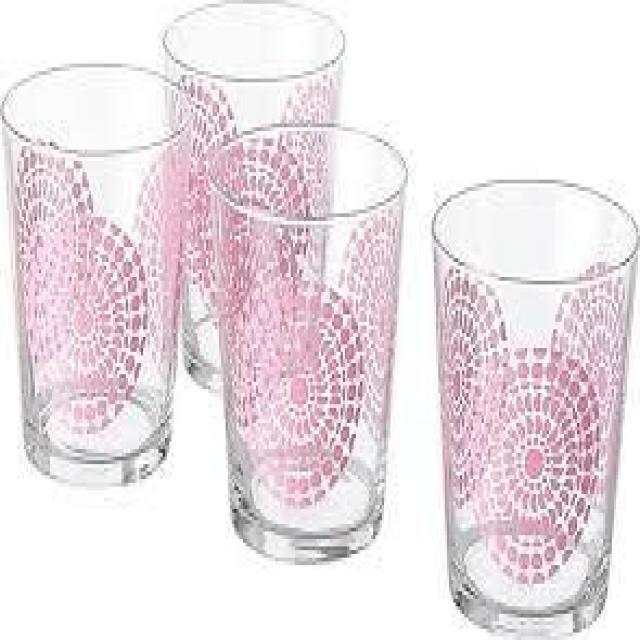Glass: (431, 177, 640, 639), (208, 116, 410, 565), (2, 59, 194, 492), (160, 2, 348, 399)
